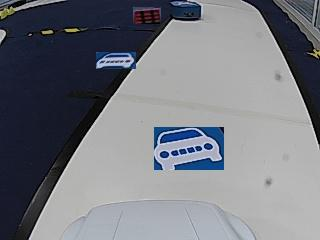prop: (171, 2, 200, 21)
